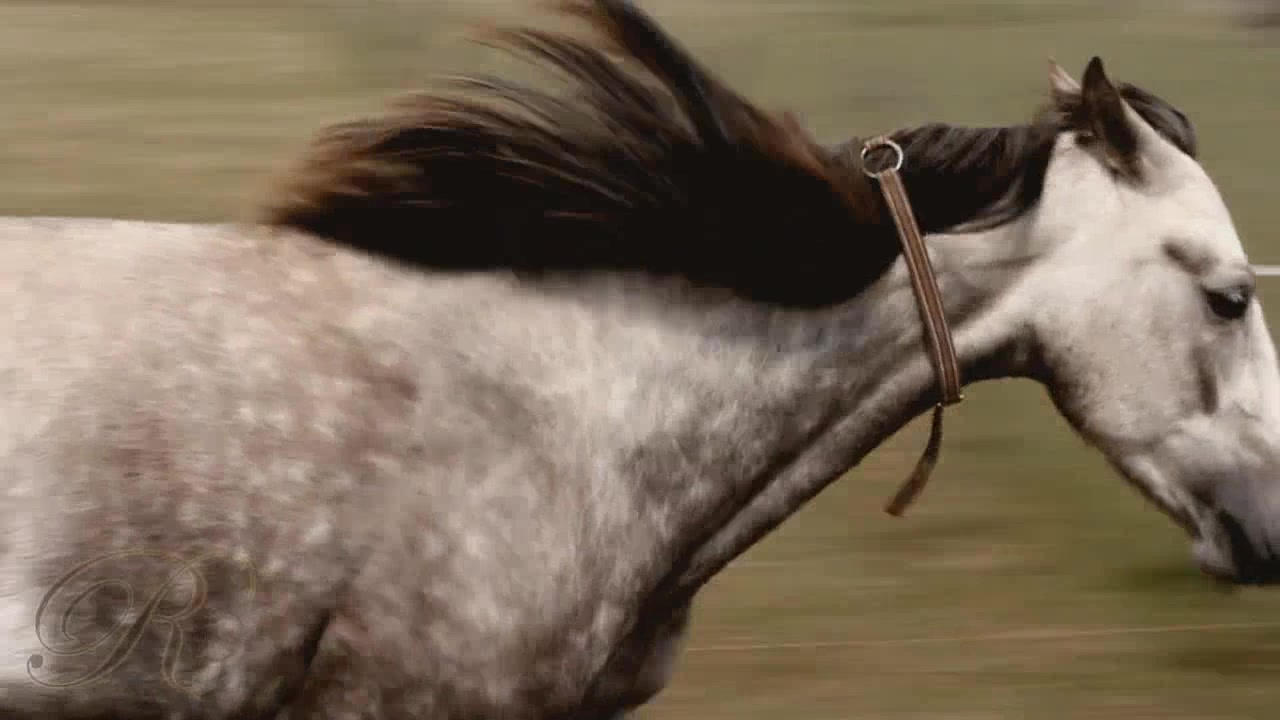horse: (4, 2, 1280, 720)
